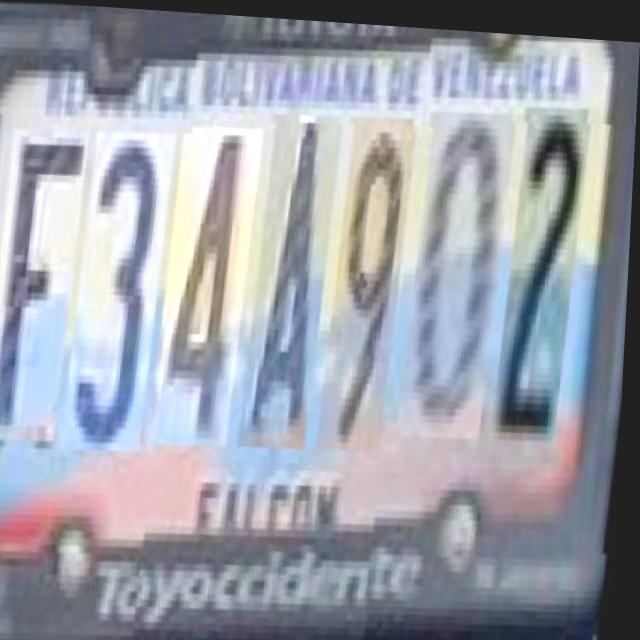2: (500, 102, 594, 441)
3: (73, 113, 181, 439)
4: (159, 116, 268, 442)
9: (328, 105, 422, 444)
a: (250, 103, 347, 442)
f: (0, 112, 94, 430)
o: (407, 105, 520, 440)
